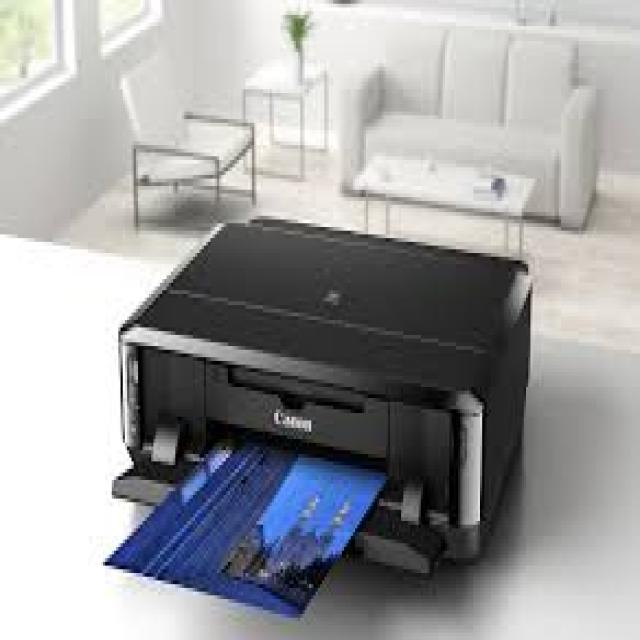printer: (103, 156, 553, 614)
